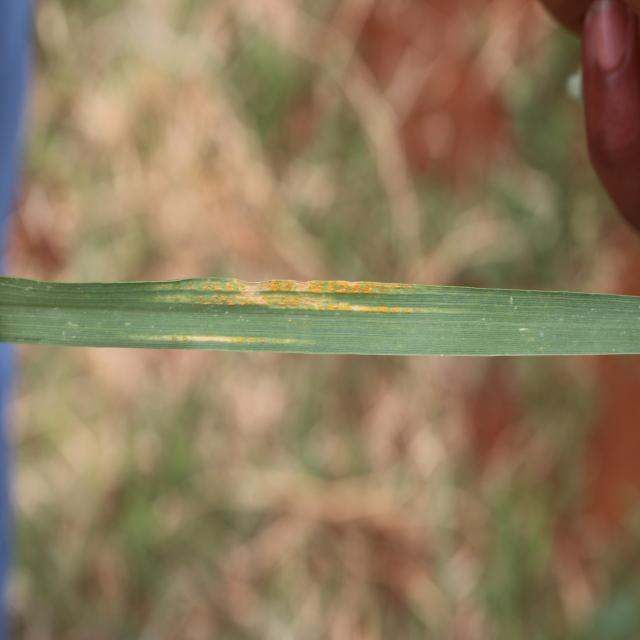Stripe Rust: (149, 278, 443, 317), (136, 332, 292, 347)
